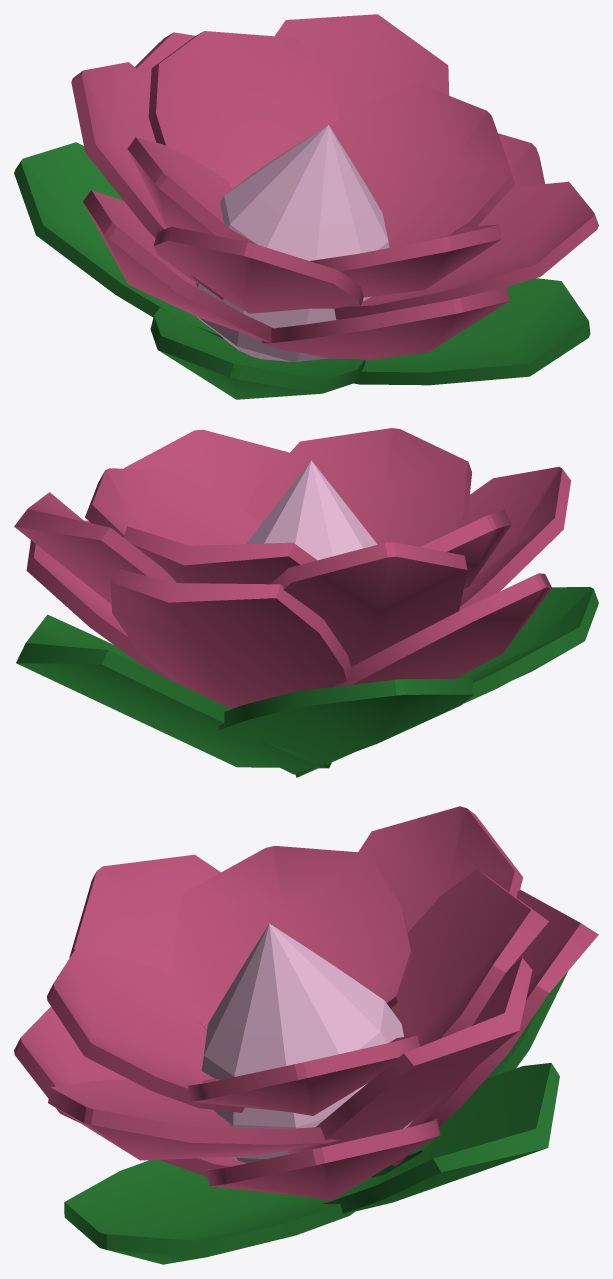
The model's file is flowerrrr.fbx.
The picture shows the model from 3 angles, top to bottom: view 1: azimuth 30°, elevation 25°; view 2: azimuth 150°, elevation 25°; view 3: azimuth 270°, elevation 25°; orthographic projection. The views are drawn at different scales.
Parts seen in each view (by area): view 1: pCube10 polySurface37.023; view 2: pCube10 polySurface37.023; view 3: pCube10 polySurface37.023.
Part boxes in pixels (<box>): pCube10 polySurface37.023: <box>14,14,598,399</box>; pCube10 polySurface37.023: <box>14,428,598,777</box>; pCube10 polySurface37.023: <box>14,806,598,1264</box>.
Size of the model in its own units: 318 by 192 by 320.
